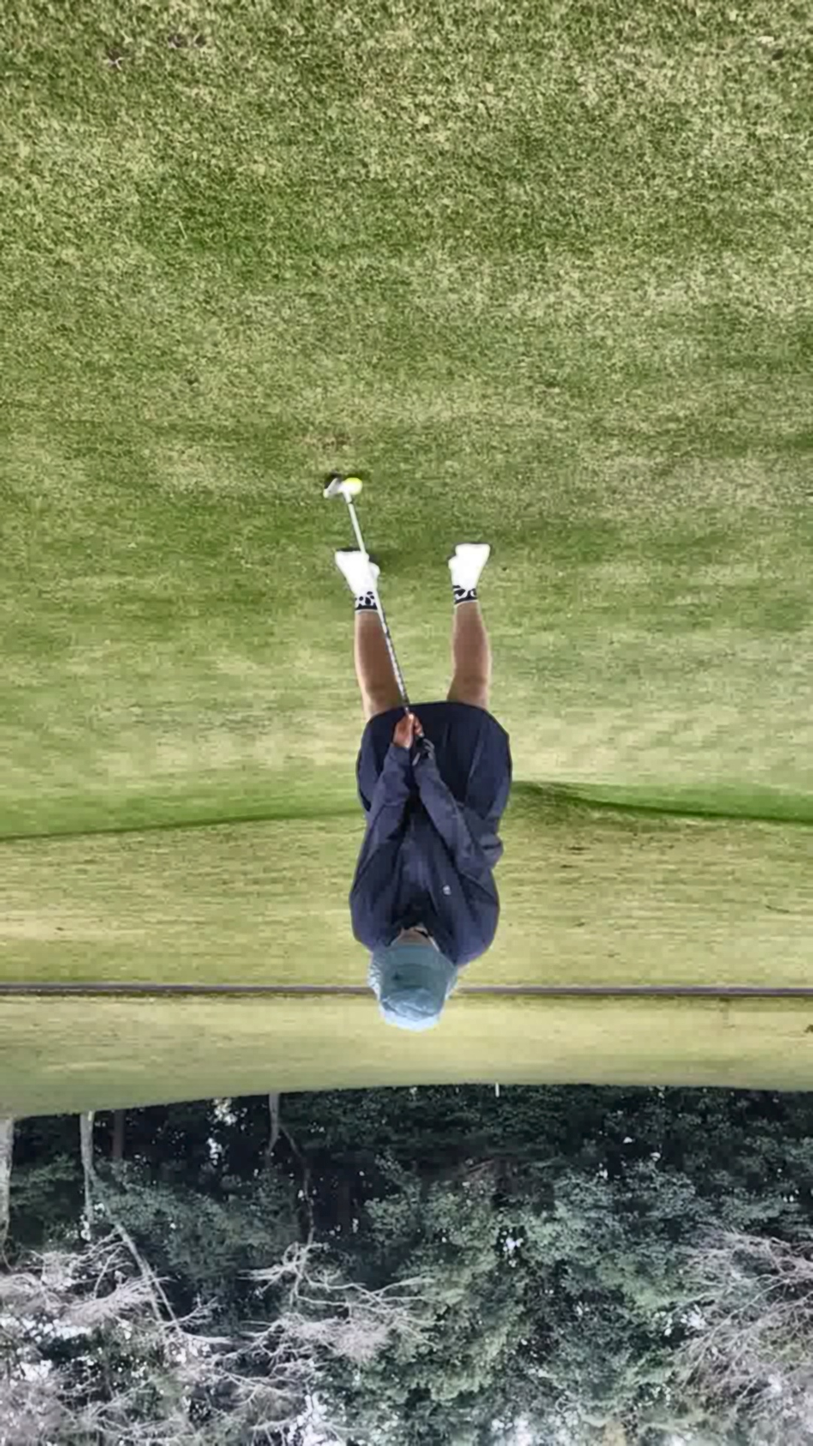clubhead: (276, 423, 429, 538)
